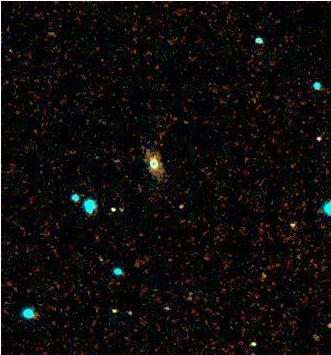star: (245, 261, 275, 291)
